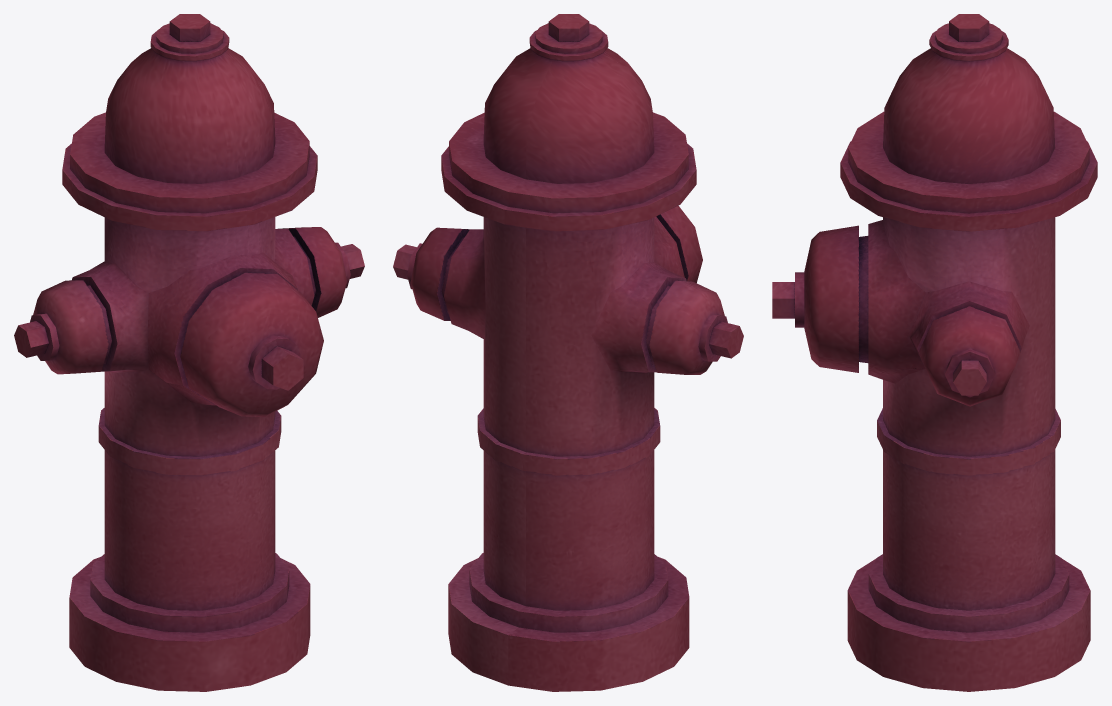
File: Hidrante.fbx
3 views of the same model, side by side, from view 1: azimuth 30°, elevation 25°; view 2: azimuth 150°, elevation 25°; view 3: azimuth 270°, elevation 25° (orthographic).
Visible parts, largest first — view 1: Hidrante; view 2: Hidrante; view 3: Hidrante.
Part boxes in pixels (x1=…): Hidrante: x1=14, y1=14, x2=364, y2=691; Hidrante: x1=393, y1=14, x2=743, y2=691; Hidrante: x1=772, y1=14, x2=1097, y2=691.
Size of the model in its own units: 42.06 by 74.53 by 35.5.
